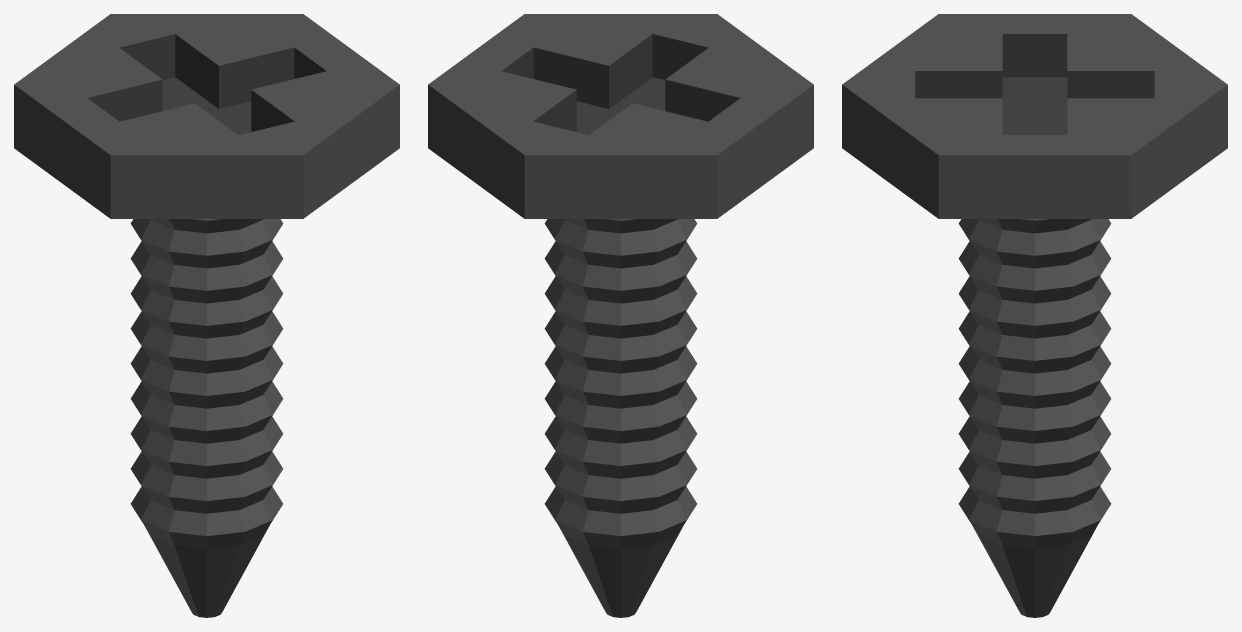
The model's file is big_screw.fbx.
The picture shows the model from 3 angles, left to right: view 1: azimuth 30°, elevation 25°; view 2: azimuth 150°, elevation 25°; view 3: azimuth 270°, elevation 25°; orthographic projection.
Parts seen in each view (by area): view 1: Mesh; view 2: Mesh; view 3: Mesh.
Boxes of the visible parts, x1,y1,x2,y2 form: Mesh: (14,14,399,617); Mesh: (428,14,813,617); Mesh: (842,14,1227,617).
Bounding box in the file's own units: 0.5748 × 1 × 0.6637.
